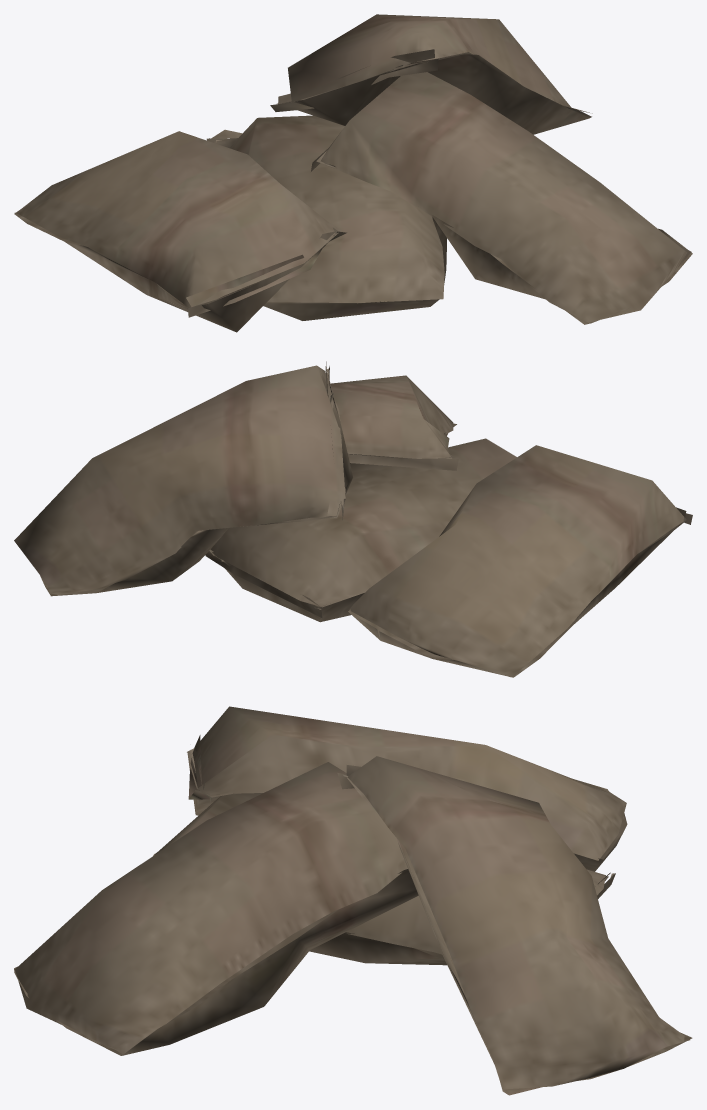
File: vc_bags.glb
3 views of the same model, one above another, from view 1: azimuth 30°, elevation 25°; view 2: azimuth 150°, elevation 25°; view 3: azimuth 270°, elevation 25° (orthographic). The views are drawn at different scales.
Visible parts, largest first — view 1: Juta_Bag_1.001_Juta_Bag_1_0; view 2: Juta_Bag_1.001_Juta_Bag_1_0; view 3: Juta_Bag_1.001_Juta_Bag_1_0.
Boxes of the visible parts, x1,y1,x2,y2 form: Juta_Bag_1.001_Juta_Bag_1_0: (14,14,692,332); Juta_Bag_1.001_Juta_Bag_1_0: (14,361,692,677); Juta_Bag_1.001_Juta_Bag_1_0: (14,706,692,1095).
Bounding box in the file's own units: 1.82 × 0.5868 × 1.7.
Materials: 1 (1 with a texture image).
